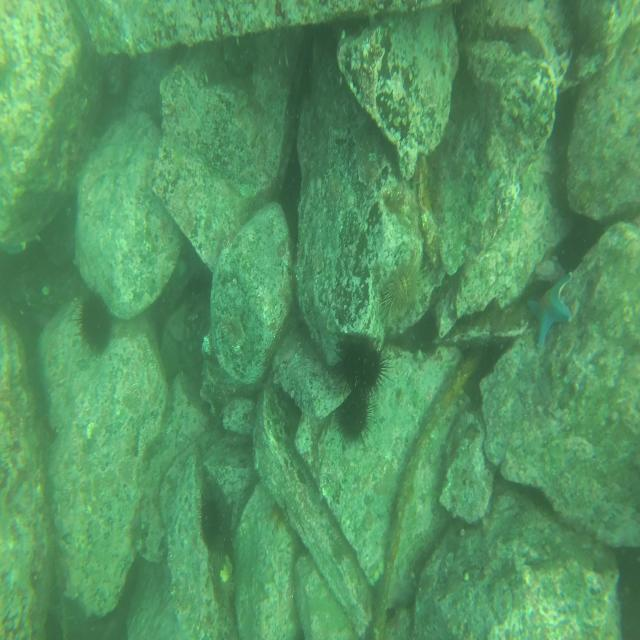echinus: (337, 328, 389, 394), (379, 254, 426, 318), (71, 287, 113, 358), (335, 387, 375, 446), (197, 494, 224, 554)
starfish: (526, 267, 575, 348)
